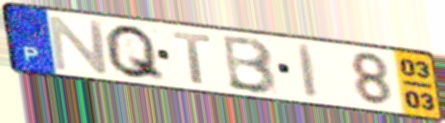8: (348, 51, 396, 107)
B: (222, 34, 281, 96)
I: (295, 42, 322, 102)
N: (46, 14, 112, 76)
Q: (102, 23, 169, 84)
T: (170, 31, 214, 87)
